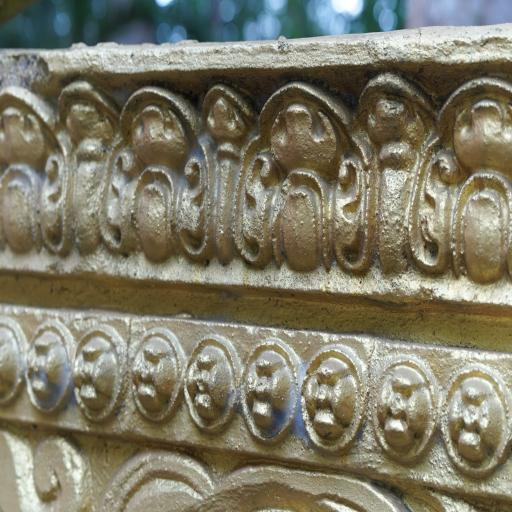hoa: (436, 357, 512, 483), (362, 348, 437, 464), (298, 331, 364, 458), (236, 328, 299, 452), (180, 316, 236, 440), (18, 313, 76, 416), (66, 320, 123, 424), (131, 324, 183, 428), (1, 315, 27, 415)
la: (223, 83, 398, 270), (84, 74, 226, 270), (398, 80, 512, 291), (0, 79, 89, 258)
